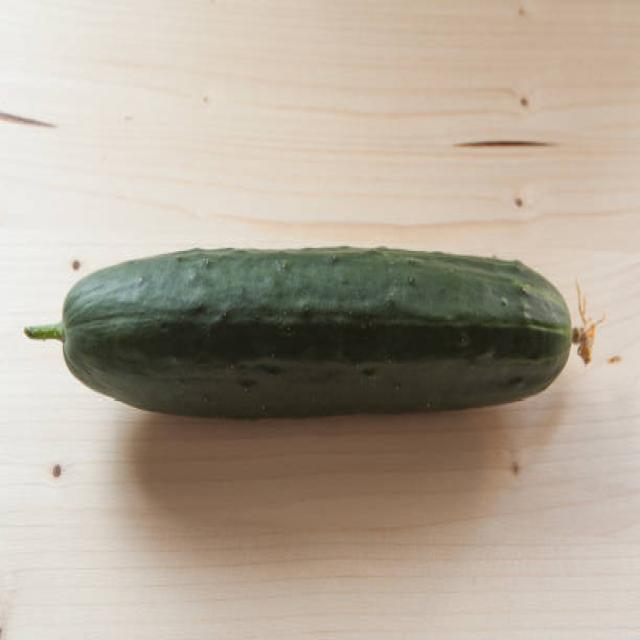cucumber: (61, 242, 572, 416)
